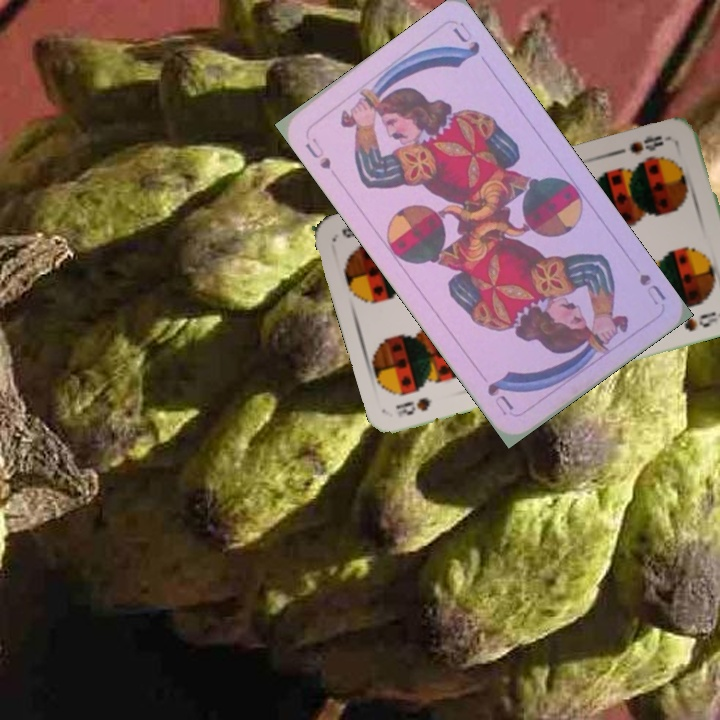S8: (626, 131, 674, 157), (391, 393, 435, 421)
SU: (635, 269, 669, 308), (301, 133, 334, 173)
